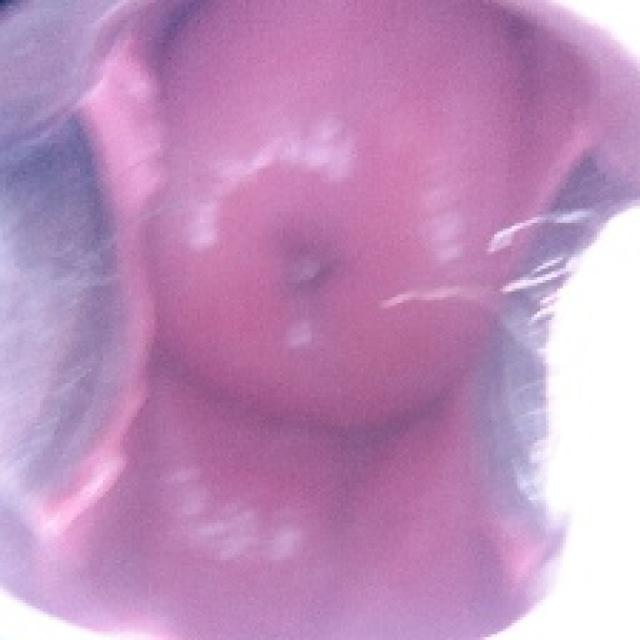type-3: (67, 0, 560, 640)
